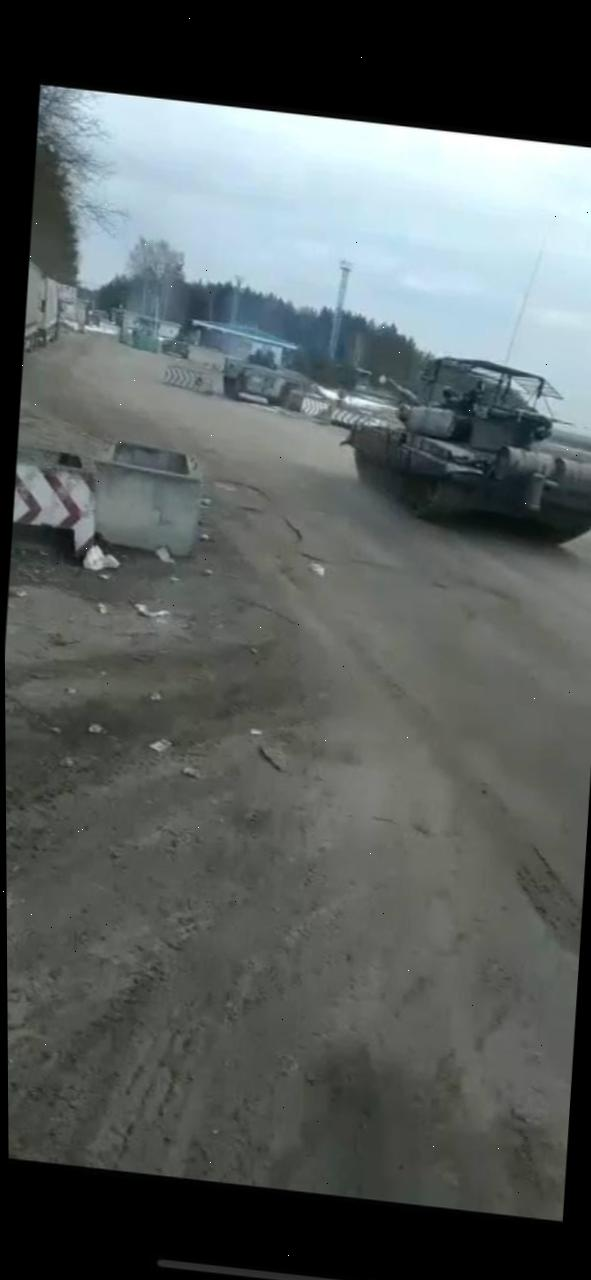tank: (332, 338, 591, 556), (218, 340, 311, 423), (152, 331, 192, 361)
